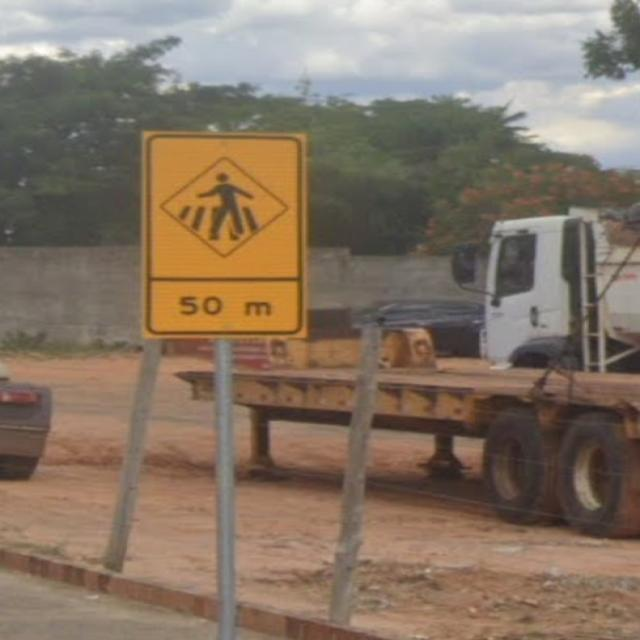pedestrian crossing: (126, 126, 324, 352)
